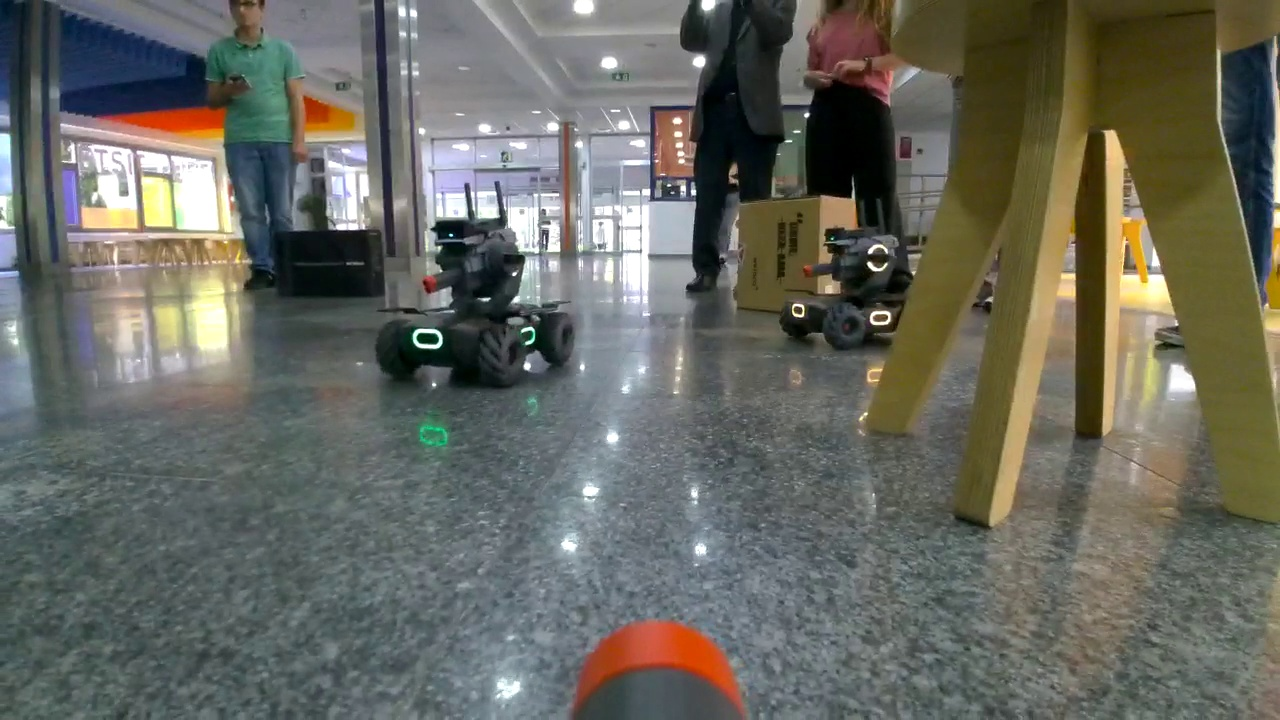robot: (374, 217, 577, 390), (776, 228, 916, 348)
